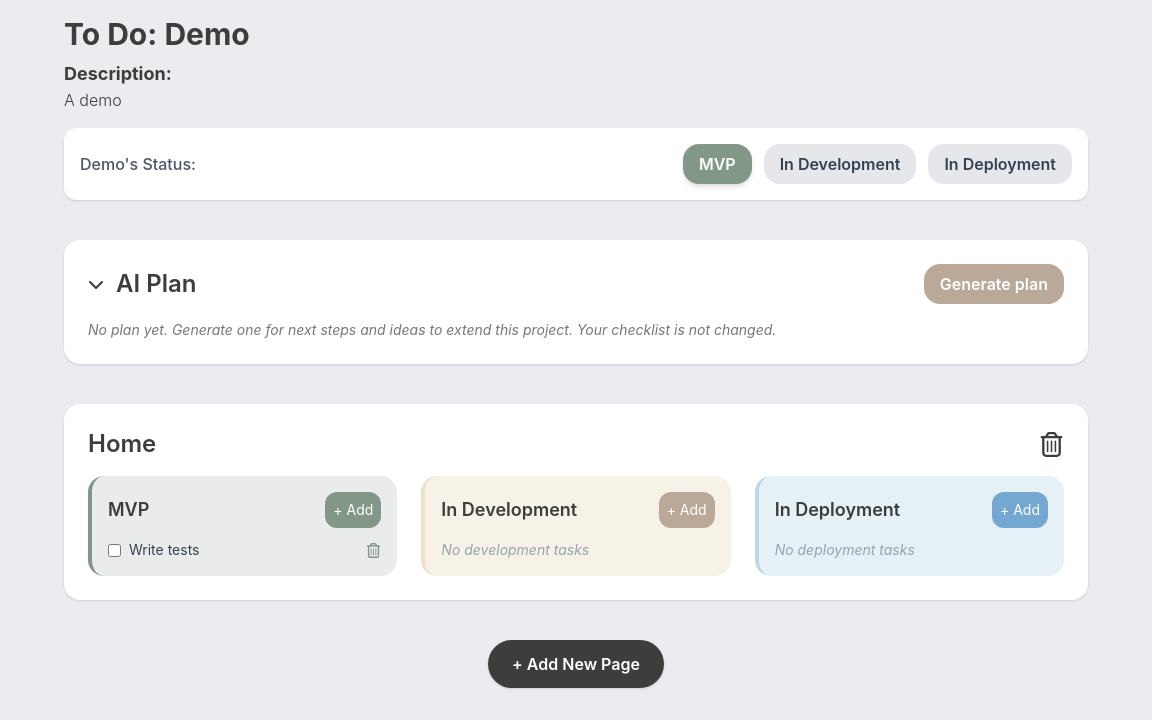
Test: ProjectDetail › deleting a page › removes the page and closes the confirmation modal
Expected: the heading "Home" is shown, [88,428,156,460]
Click the button without text in the row of "Home" at (1052, 444), box [1039,432,1064,456]
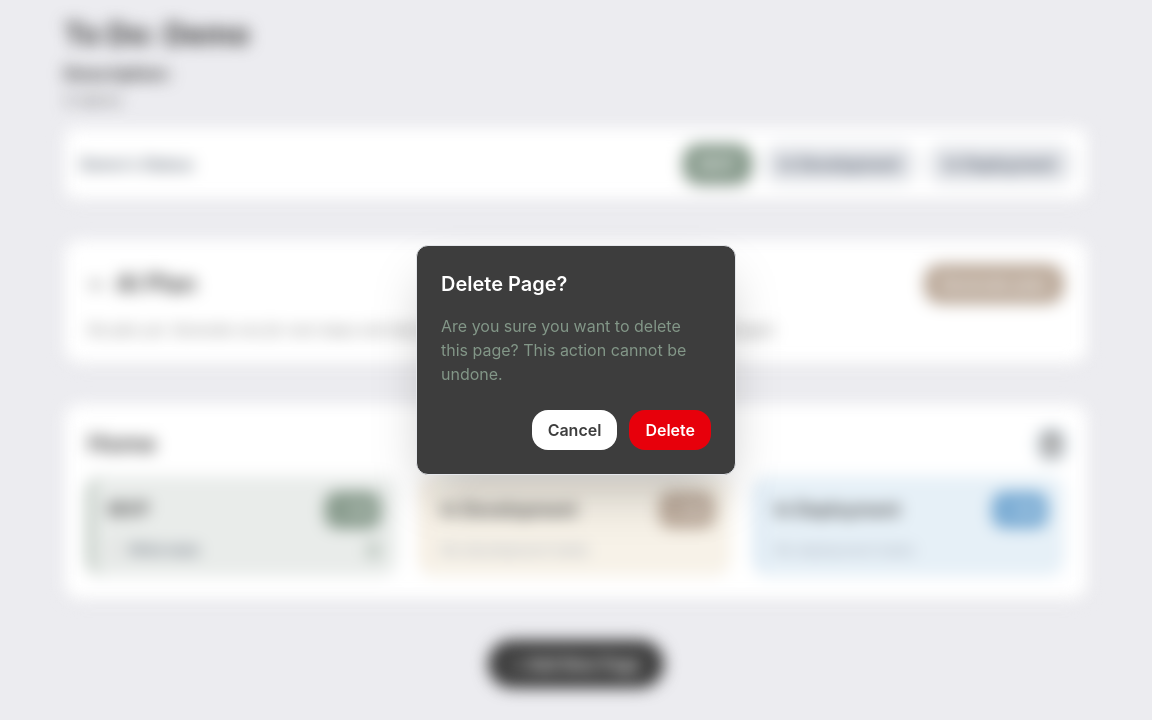
Click the button "Delete" at (670, 430), box [629,410,711,450]
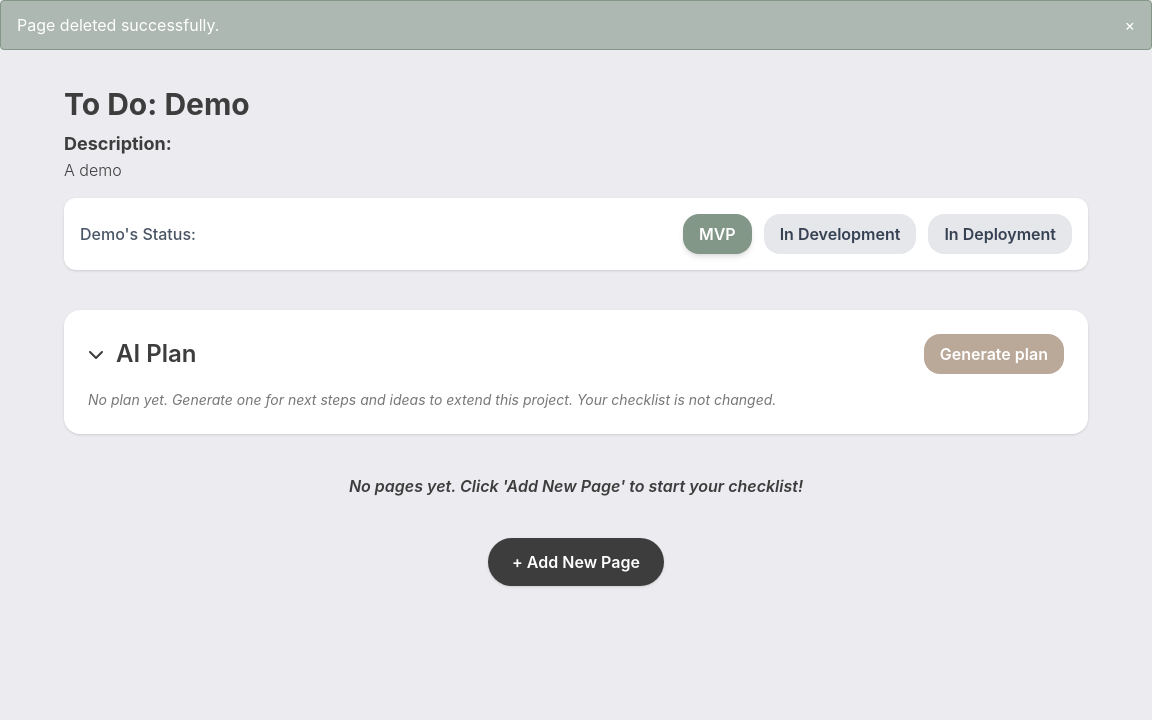
Expected: the heading "Home" is gone
Expected: the heading "Delete Page?" is gone
